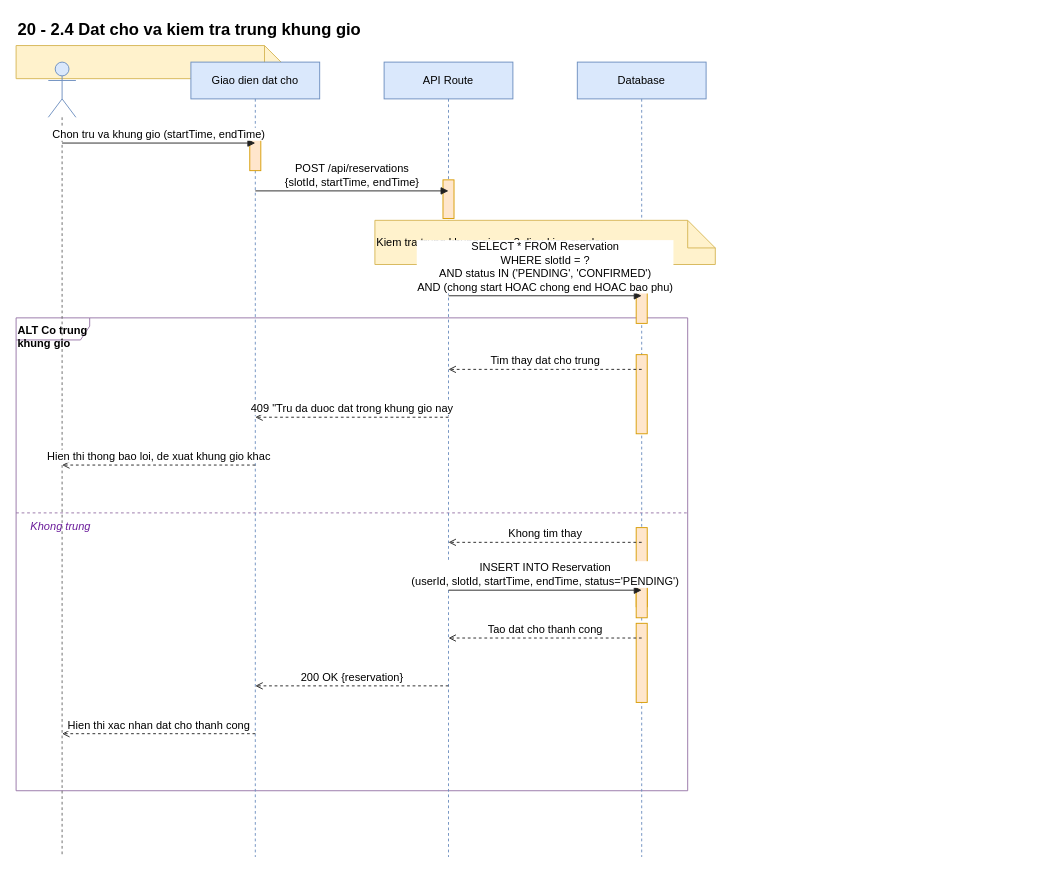
The diagram is 1063 pixels wide and 874 high, and some of its shapes have lost their labels. The shapes that lost their labels are listed below. From the top down, each one's box as (x1, y1, x2, y2) in pixels, then its label:
(15, 45, 292, 79): Mermaid sequence source: PHAN_TICH_THIET_KE_HE_THONG.md:961
(47, 61, 76, 117): Khach hang
